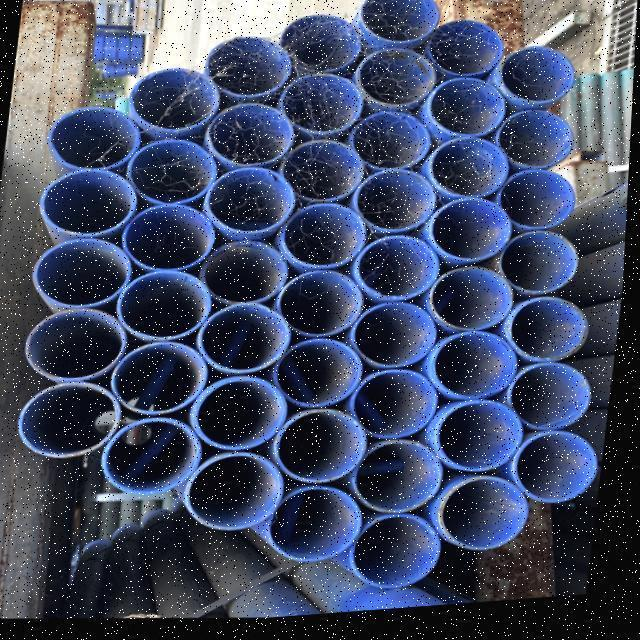pipe: (18, 374, 135, 468), (187, 449, 296, 542), (104, 413, 215, 504), (193, 369, 302, 460), (25, 301, 138, 388), (32, 231, 141, 317), (39, 164, 149, 247), (274, 406, 376, 495), (113, 336, 217, 423), (268, 483, 369, 571), (437, 478, 539, 565), (117, 265, 221, 350), (351, 439, 451, 527), (351, 513, 451, 598), (273, 335, 375, 417), (199, 300, 302, 381), (431, 401, 530, 485), (121, 201, 226, 280), (124, 134, 225, 216), (350, 367, 448, 451), (511, 431, 607, 516), (201, 164, 300, 246), (40, 102, 145, 179), (500, 364, 600, 444), (125, 63, 226, 142), (432, 329, 525, 414), (348, 300, 446, 380), (352, 234, 450, 314), (279, 134, 375, 213), (425, 265, 521, 344), (205, 102, 304, 178), (281, 200, 376, 279), (201, 239, 299, 315), (277, 266, 370, 346), (201, 34, 296, 111), (348, 168, 442, 245), (424, 196, 515, 274), (503, 299, 594, 375), (276, 74, 368, 149), (498, 232, 587, 309), (427, 138, 518, 211), (420, 79, 511, 152), (277, 15, 369, 86), (351, 45, 437, 120), (349, 109, 437, 181), (488, 112, 577, 183), (417, 22, 506, 93), (493, 171, 579, 243), (493, 51, 580, 122), (350, 0, 444, 59)
